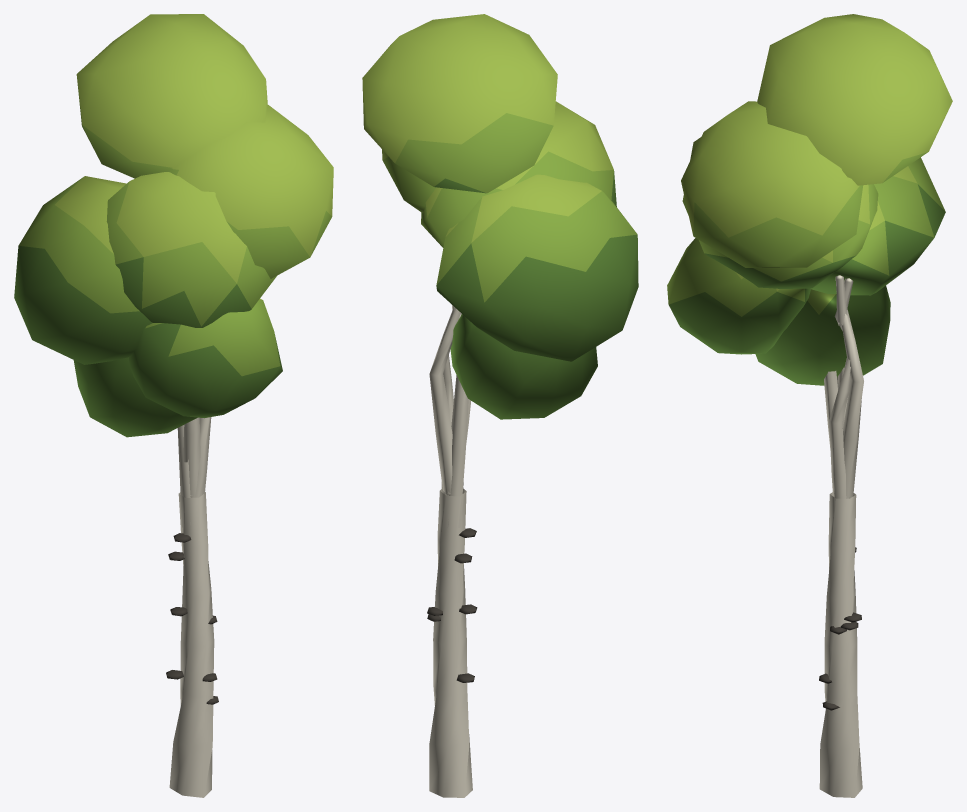
File: BirchA_LOD.glb
The picture shows the model from 3 angles, left to right: view 1: azimuth 30°, elevation 25°; view 2: azimuth 150°, elevation 25°; view 3: azimuth 270°, elevation 25°; orthographic projection.
Parts seen in each view (by area): view 1: BirchA_LOD.leafLight, BirchA_LOD.leafDark, BirchA_LOD.leafMid, BirchA_LOD.bark, BirchA_LOD.barkMark; view 2: BirchA_LOD.leafLight, BirchA_LOD.leafDark, BirchA_LOD.leafMid, BirchA_LOD.bark, BirchA_LOD.barkMark; view 3: BirchA_LOD.leafLight, BirchA_LOD.leafDark, BirchA_LOD.leafMid, BirchA_LOD.bark, BirchA_LOD.barkMark.
Boxes of the visible parts, x1=… form: BirchA_LOD.leafLight: x1=55, y1=14, x2=333, y2=299; BirchA_LOD.leafDark: x1=14, y1=246, x2=282, y2=437; BirchA_LOD.leafMid: x1=18, y1=82, x2=331, y2=376; BirchA_LOD.bark: x1=169, y1=417, x2=214, y2=797; BirchA_LOD.barkMark: x1=166, y1=533, x2=218, y2=704; BirchA_LOD.leafLight: x1=362, y1=14, x2=613, y2=242; BirchA_LOD.leafDark: x1=434, y1=171, x2=638, y2=419; BirchA_LOD.leafMid: x1=382, y1=113, x2=637, y2=302; BirchA_LOD.bark: x1=429, y1=305, x2=472, y2=797; BirchA_LOD.barkMark: x1=427, y1=528, x2=477, y2=682; BirchA_LOD.leafLight: x1=681, y1=14, x2=952, y2=291; BirchA_LOD.leafDark: x1=669, y1=184, x2=945, y2=385; BirchA_LOD.leafMid: x1=667, y1=152, x2=945, y2=316; BirchA_LOD.bark: x1=819, y1=275, x2=863, y2=797; BirchA_LOD.barkMark: x1=819, y1=547, x2=861, y2=710.
Bounding box in the file's own units: 9.7 × 26.61 × 9.06.
